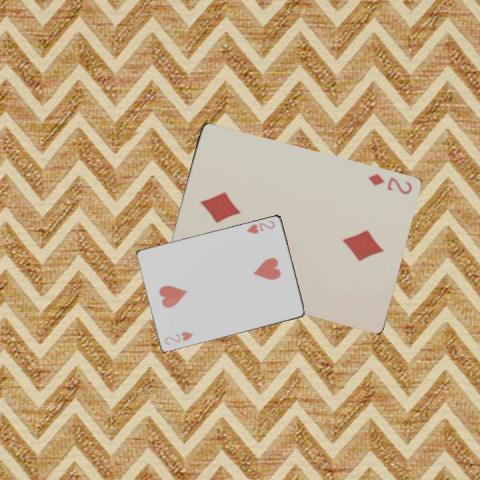2d: (365, 171, 413, 196)
2h: (244, 217, 277, 235), (162, 328, 195, 346)
